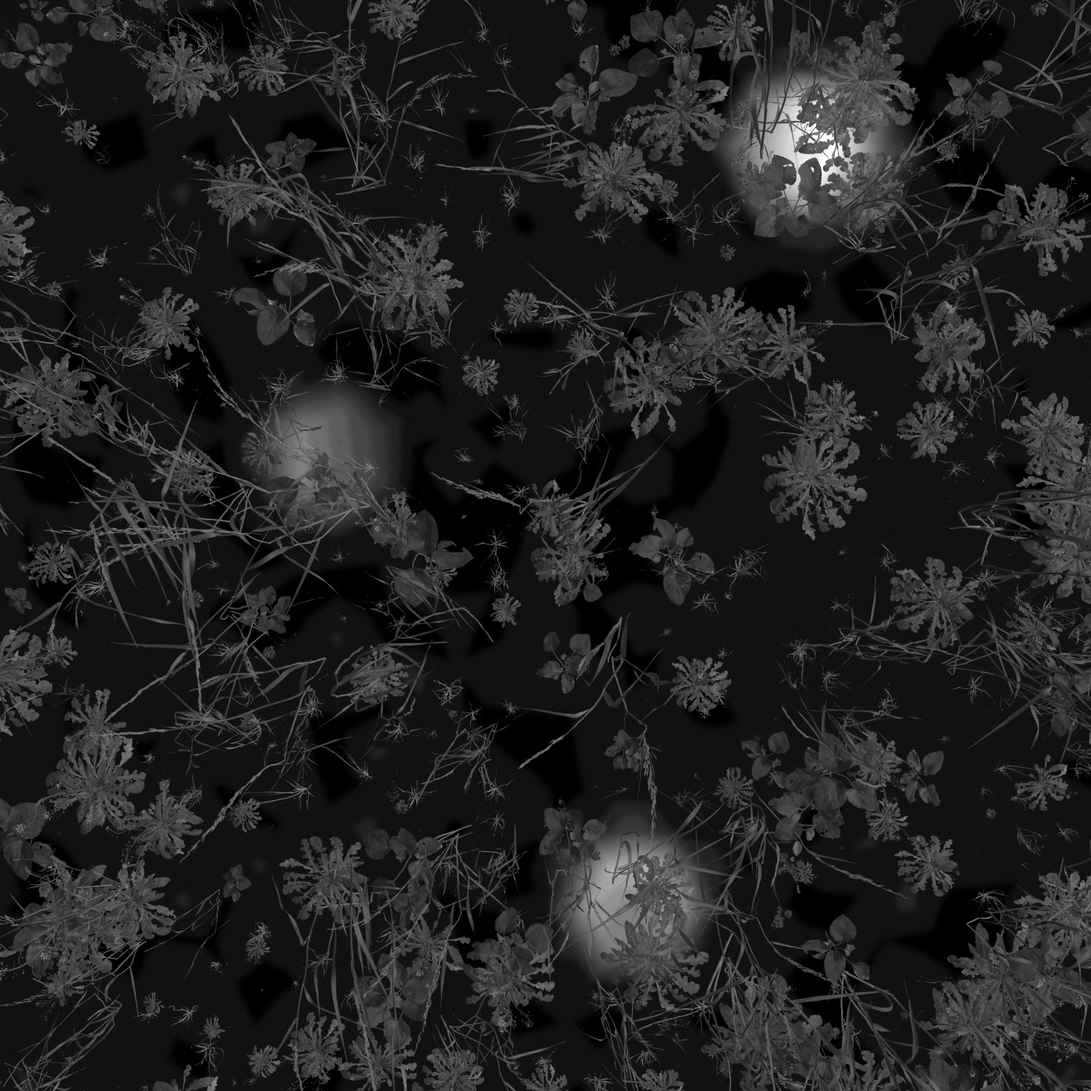landmine: (543, 807, 718, 973), (729, 60, 885, 223), (251, 397, 384, 533)
